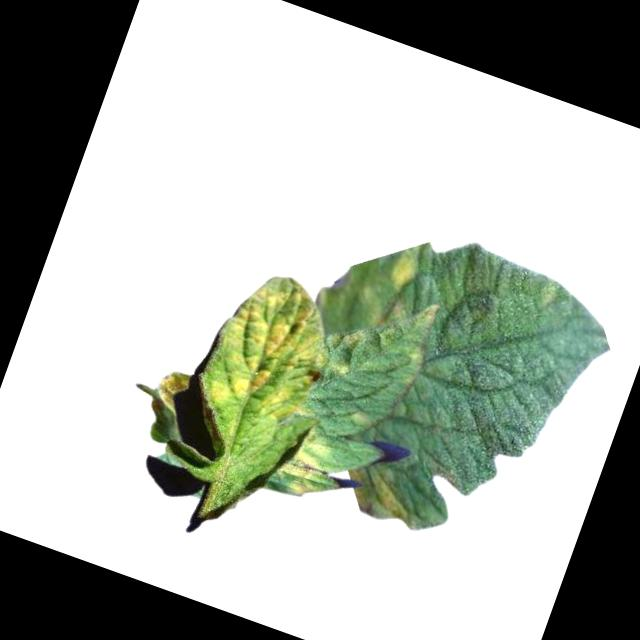Leaf_Mold: (190, 257, 350, 435), (271, 419, 347, 507), (339, 457, 426, 531), (388, 244, 427, 292), (415, 298, 444, 332), (339, 321, 369, 352), (348, 404, 377, 433)
